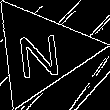N_N: (16, 24, 66, 79)
